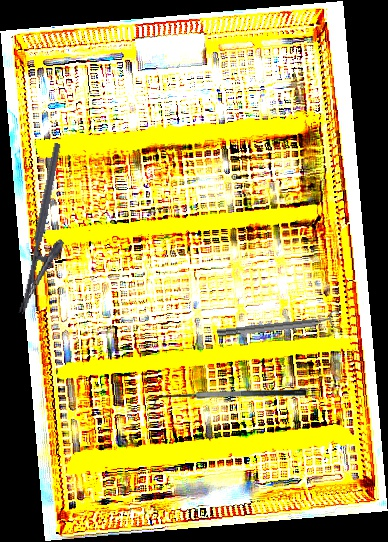Fixation Ring: (216, 309, 341, 343)
Needle Holder: (17, 142, 85, 320)
Spatula Surgical: (153, 388, 306, 409)
